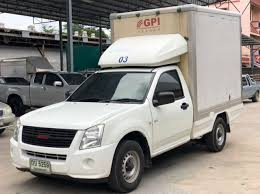pickup: (9, 64, 232, 193)
